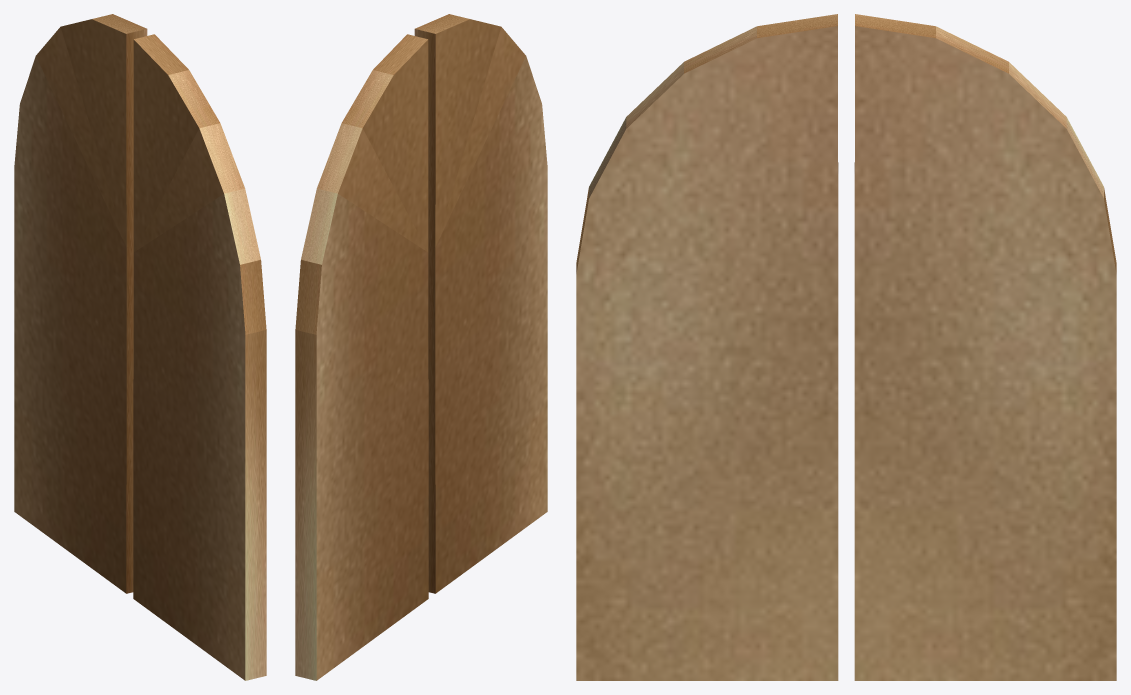
Rendered from PuertaHorno.obj.
3 views of the same model, side by side, from view 1: azimuth 30°, elevation 25°; view 2: azimuth 150°, elevation 25°; view 3: azimuth 270°, elevation 25° (orthographic). The views are drawn at different scales.
Visible parts, largest first — view 1: PuertaHorno:polySurface6; view 2: PuertaHorno:polySurface6; view 3: PuertaHorno:polySurface6.
Boxes of the visible parts, x1=… form: PuertaHorno:polySurface6: x1=14, y1=14, x2=266, y2=680; PuertaHorno:polySurface6: x1=295, y1=14, x2=547, y2=680; PuertaHorno:polySurface6: x1=576, y1=14, x2=1116, y2=680.
Bounding box in the file's own units: 0.5336 × 13.42 × 10.04.
2 materials, 2 textured.
